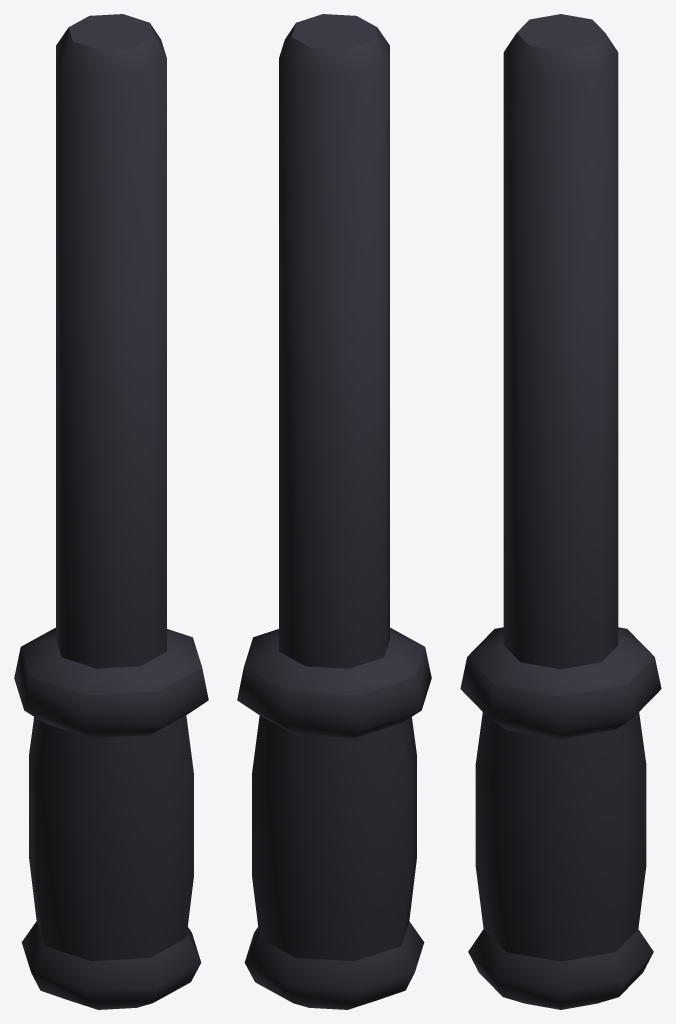
File: baton.fbx
The picture shows the model from 3 angles, left to right: view 1: azimuth 30°, elevation 25°; view 2: azimuth 150°, elevation 25°; view 3: azimuth 270°, elevation 25°; orthographic projection.
Parts seen in each view (by area): view 1: baton; view 2: baton; view 3: baton.
Boxes of the visible parts, box(x1,y1,x2,y2) form: baton: box(14, 14, 208, 1009); baton: box(237, 14, 431, 1009); baton: box(460, 14, 661, 1009).
Bounding box in the file's own units: 0.1501 × 0.7868 × 0.1501.
